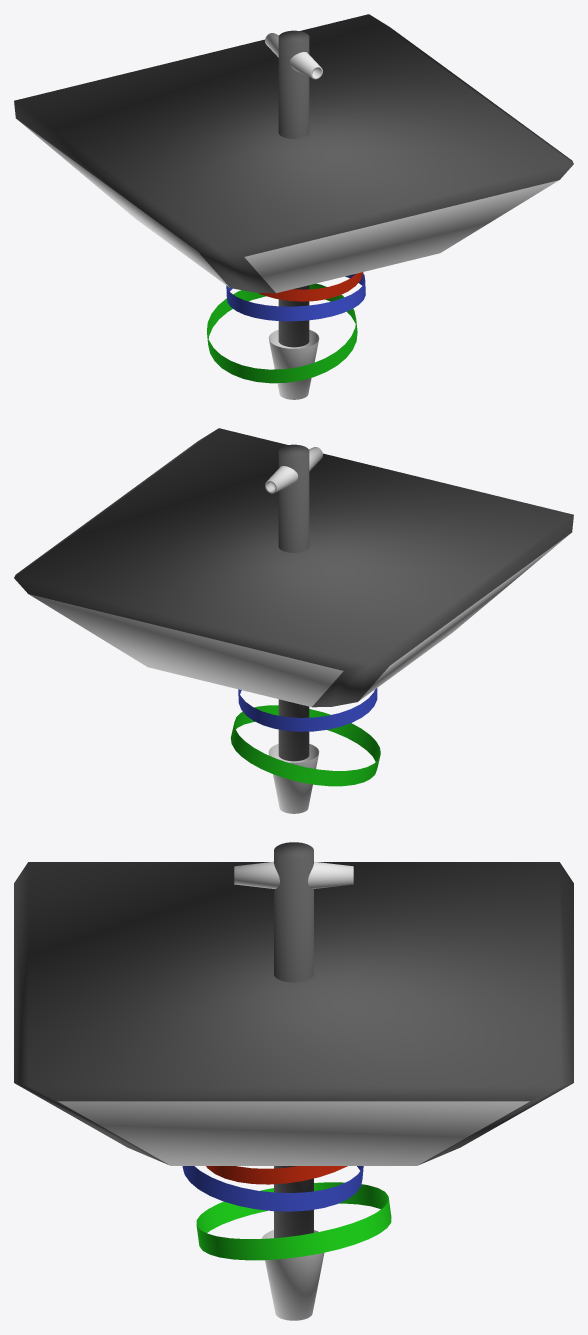
The model's file is score_board.glb.
3 renders of one model, top to bottom at view 1: azimuth 30°, elevation 25°; view 2: azimuth 150°, elevation 25°; view 3: azimuth 270°, elevation 25°, orthographic. The views are drawn at different scales.
Parts seen in each view (by area): view 1: score board; view 2: score board; view 3: score board.
Boxes of the visible parts, x1=… form: score board: x1=14, y1=14, x2=573, y2=399; score board: x1=14, y1=428, x2=573, y2=813; score board: x1=14, y1=842, x2=573, y2=1320.
Size of the model in its own units: 54.36 by 49.5 by 54.36.
